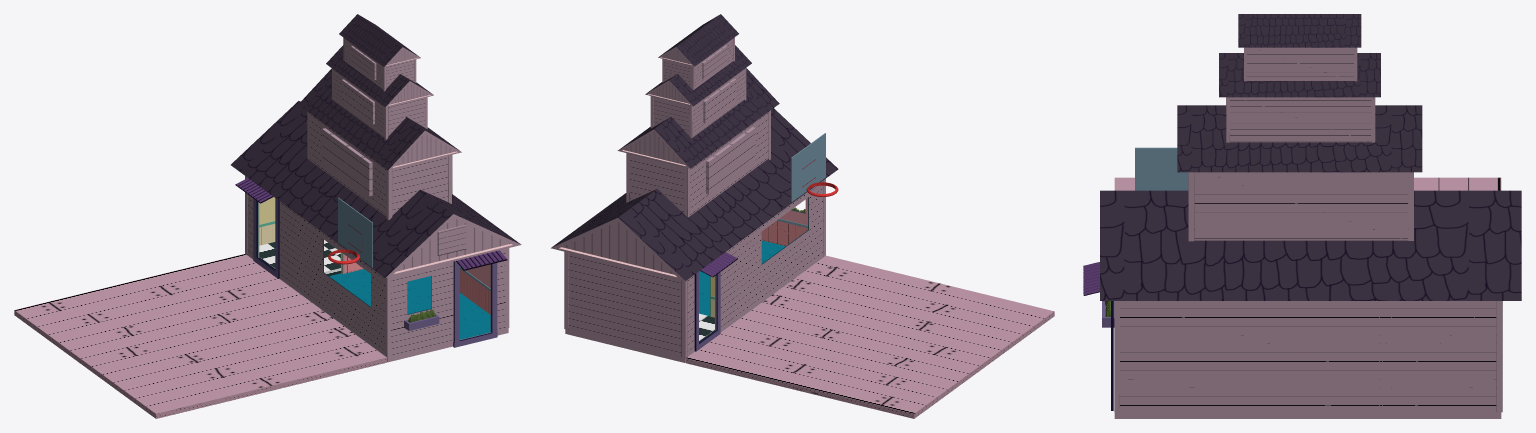
Rendered from casa.obj.
3 views of the same model, side by side, from view 1: azimuth 30°, elevation 25°; view 2: azimuth 150°, elevation 25°; view 3: azimuth 270°, elevation 25° (orthographic). The views are drawn at different scales.
Parts seen in each view (by area): view 1: polySurface123; view 2: polySurface123; view 3: polySurface123.
Boxes of the visible parts, left/top/right/bottom form: polySurface123: left=14, top=14, right=521, bottom=418; polySurface123: left=551, top=14, right=1054, bottom=418; polySurface123: left=1083, top=14, right=1521, bottom=418.
Size of the model in its own units: 37.01 by 26.29 by 28.63.
